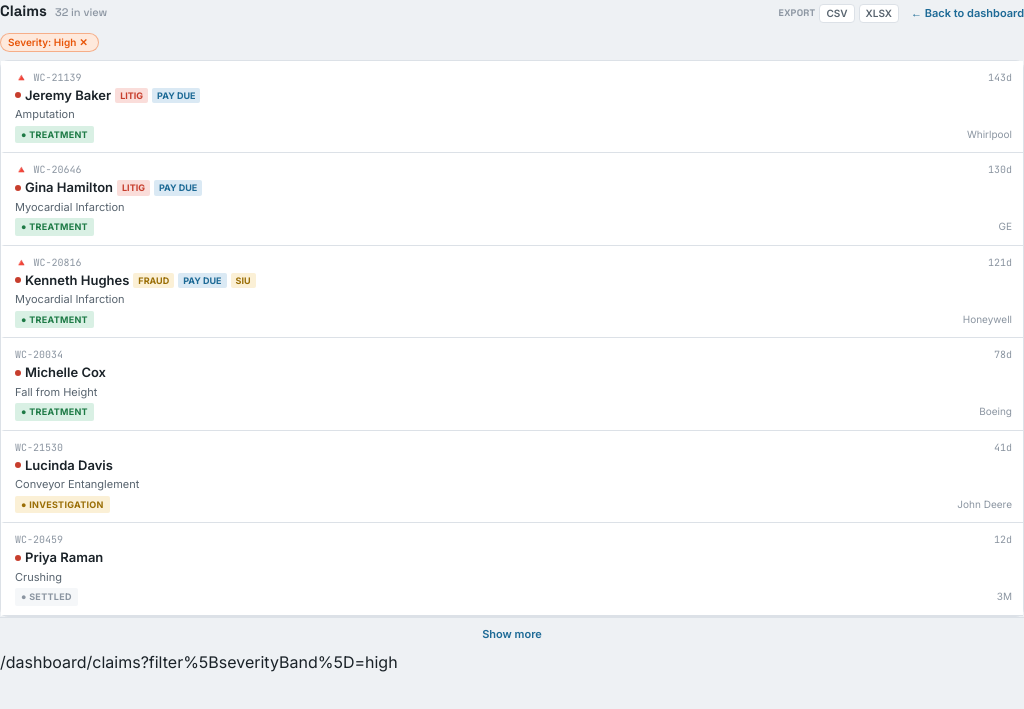
Show more appends the next page and then disappears
The width and height of the screenshot is (1024, 709).
Step 1. Click the button with test id "drill-more" → (512, 633), box [0,617,1023,650]
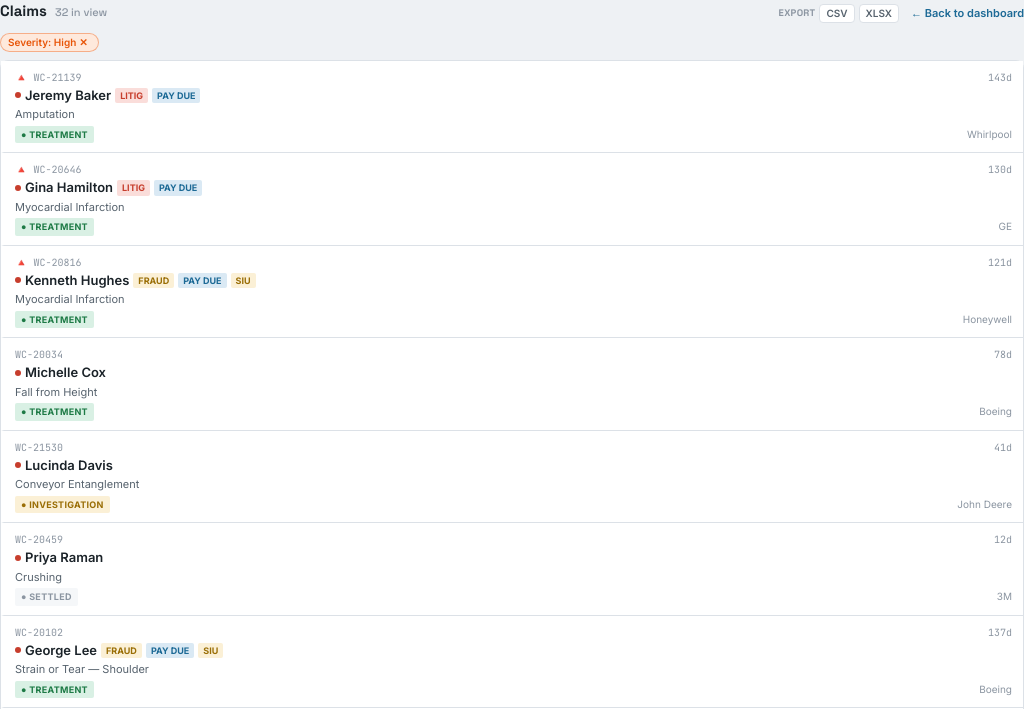
Expected: the text with test id "drill-count" reads "32 in view", [55,5,107,19]
Expected: the button with test id "drill-more" is gone
